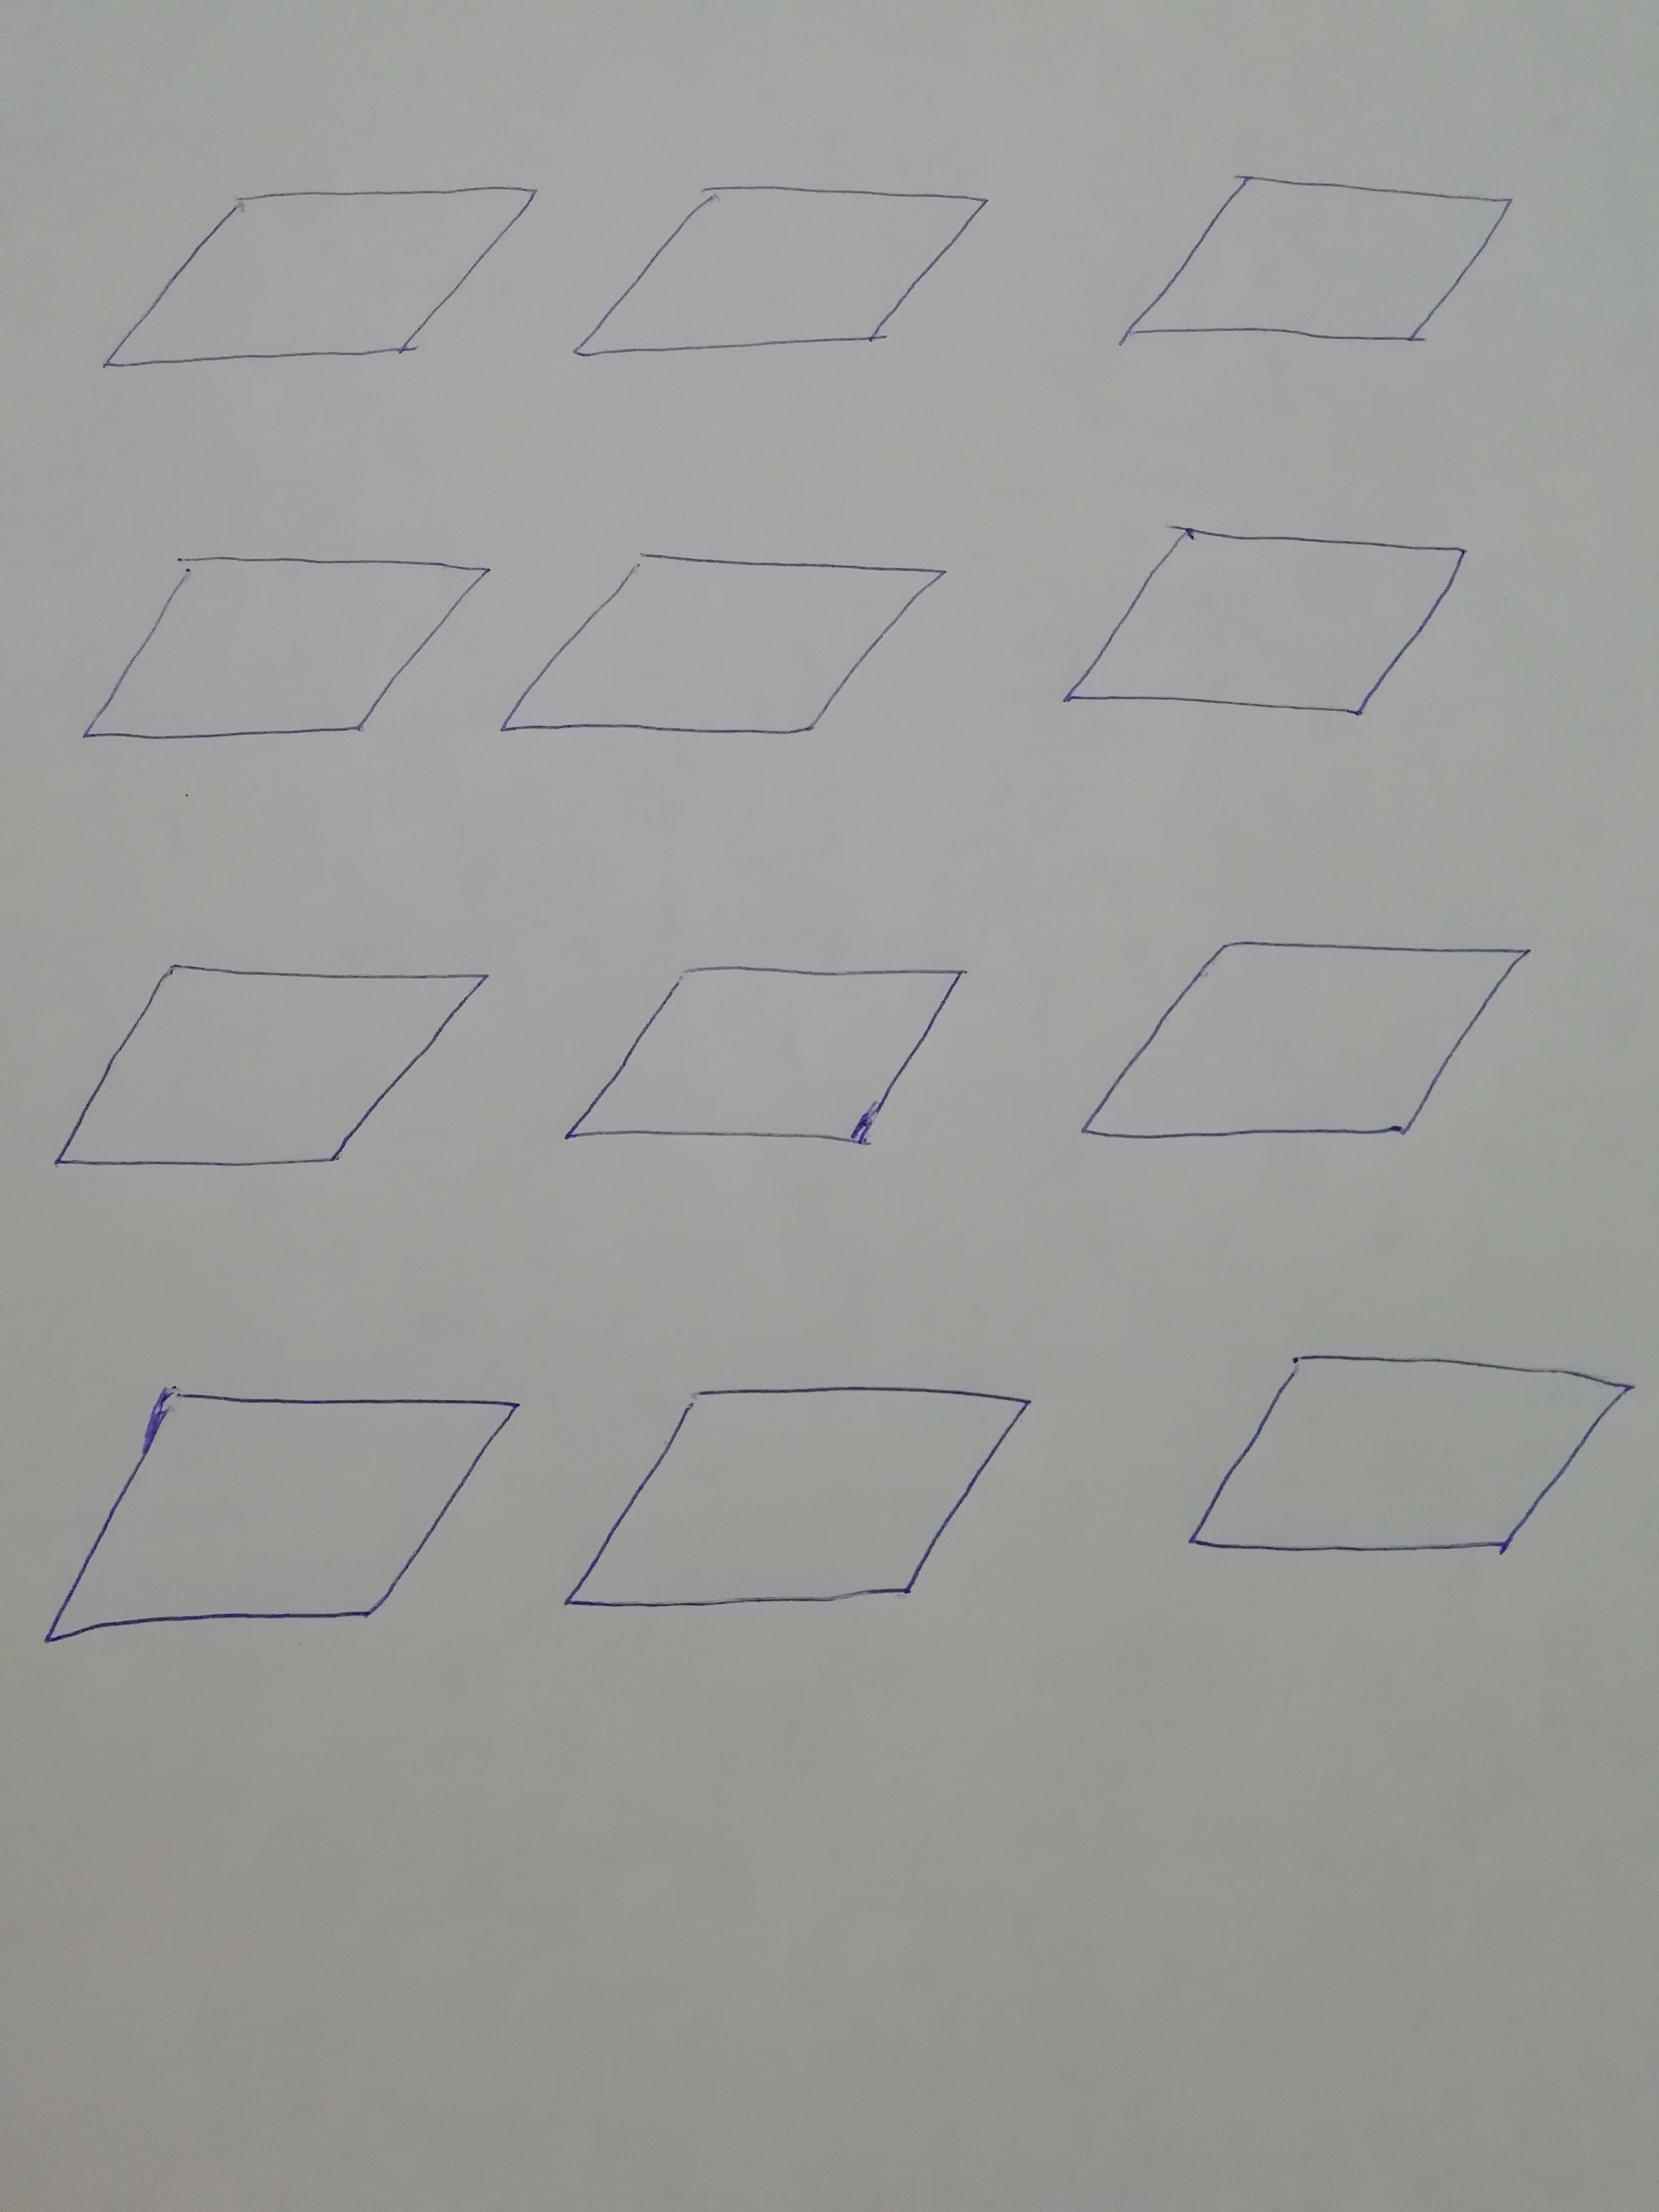scan: (9, 1346, 544, 1719), (551, 1357, 1075, 1702), (1157, 1298, 1650, 1627), (1068, 894, 1561, 1209), (30, 918, 509, 1230), (551, 914, 983, 1230), (59, 148, 554, 421), (1096, 134, 1561, 418), (1037, 489, 1500, 773), (47, 524, 495, 805), (498, 528, 958, 791), (565, 148, 1009, 415)
